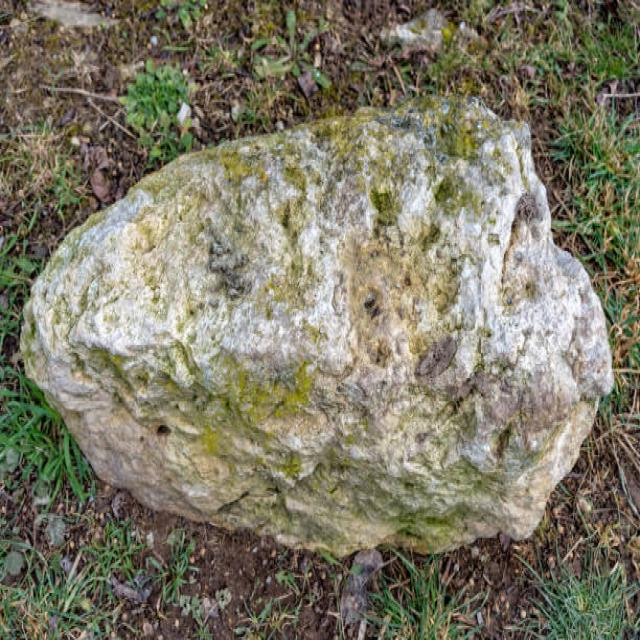Sedimentary: (21, 100, 614, 554)
